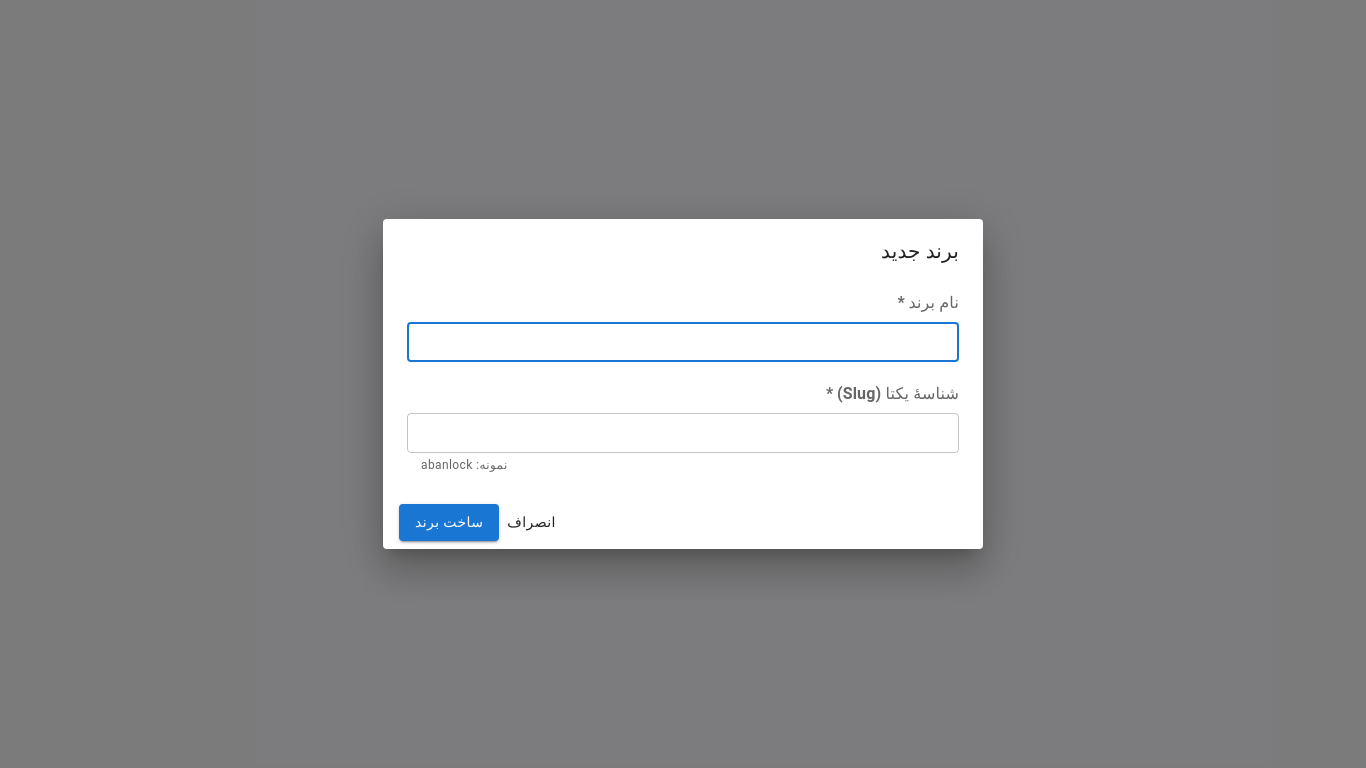
Test: BrandDialog › rejects an invalid slug and shows the API error
Type "x" into the field labelled "نام برند *". click: (683, 342)
box: [407,322,959,362]
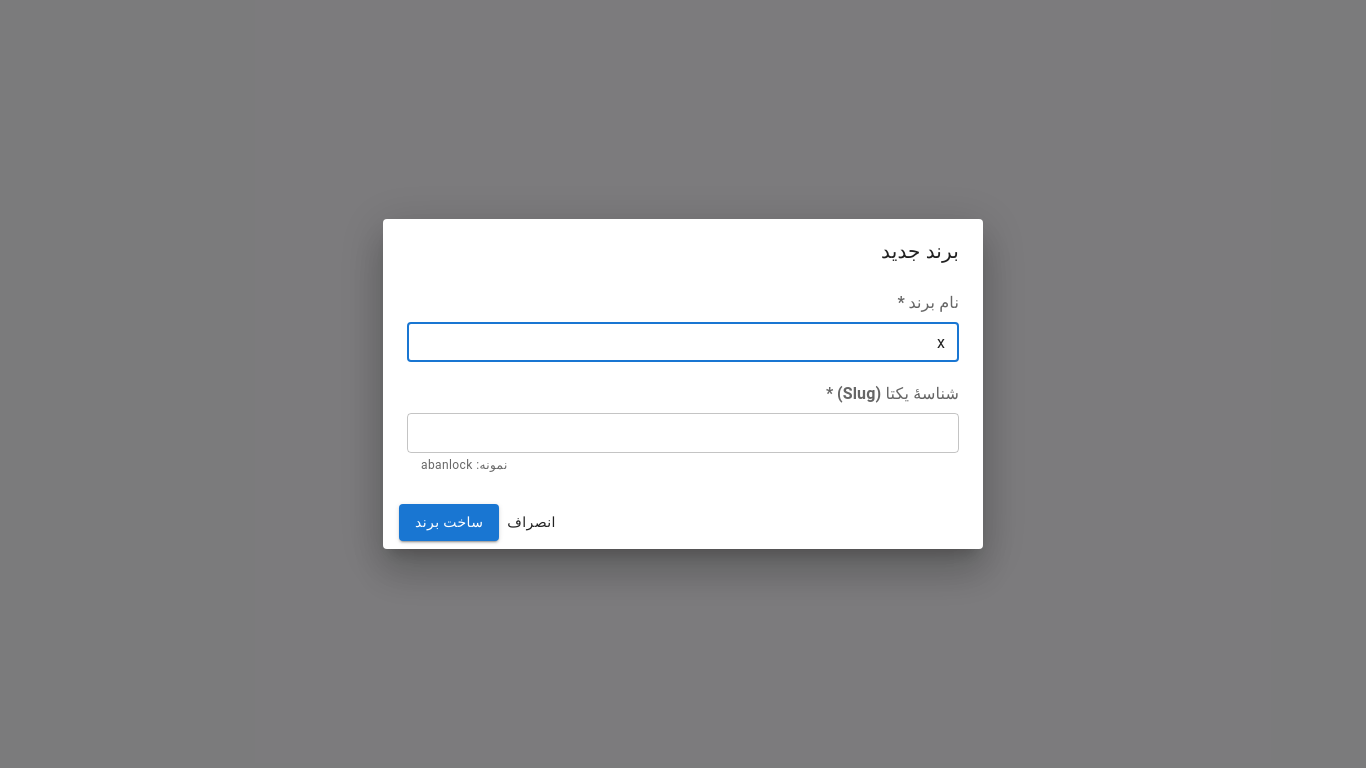
Type "Bad Slug?" into the field labelled "شناسهٔ یکتا (Slug) *". click: (683, 433)
box: [407,413,959,453]
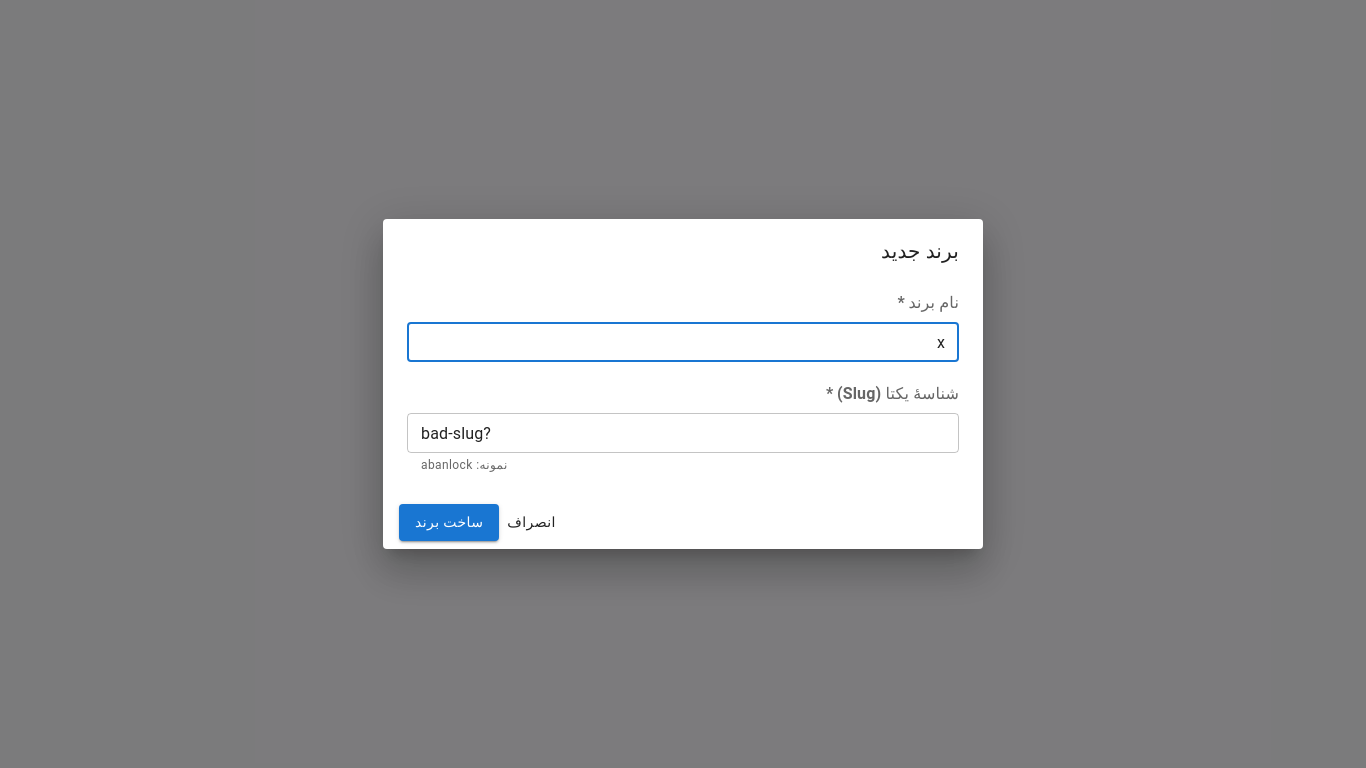
Click the button "ساخت برند". click: (449, 522)
box: [399,504,499,541]
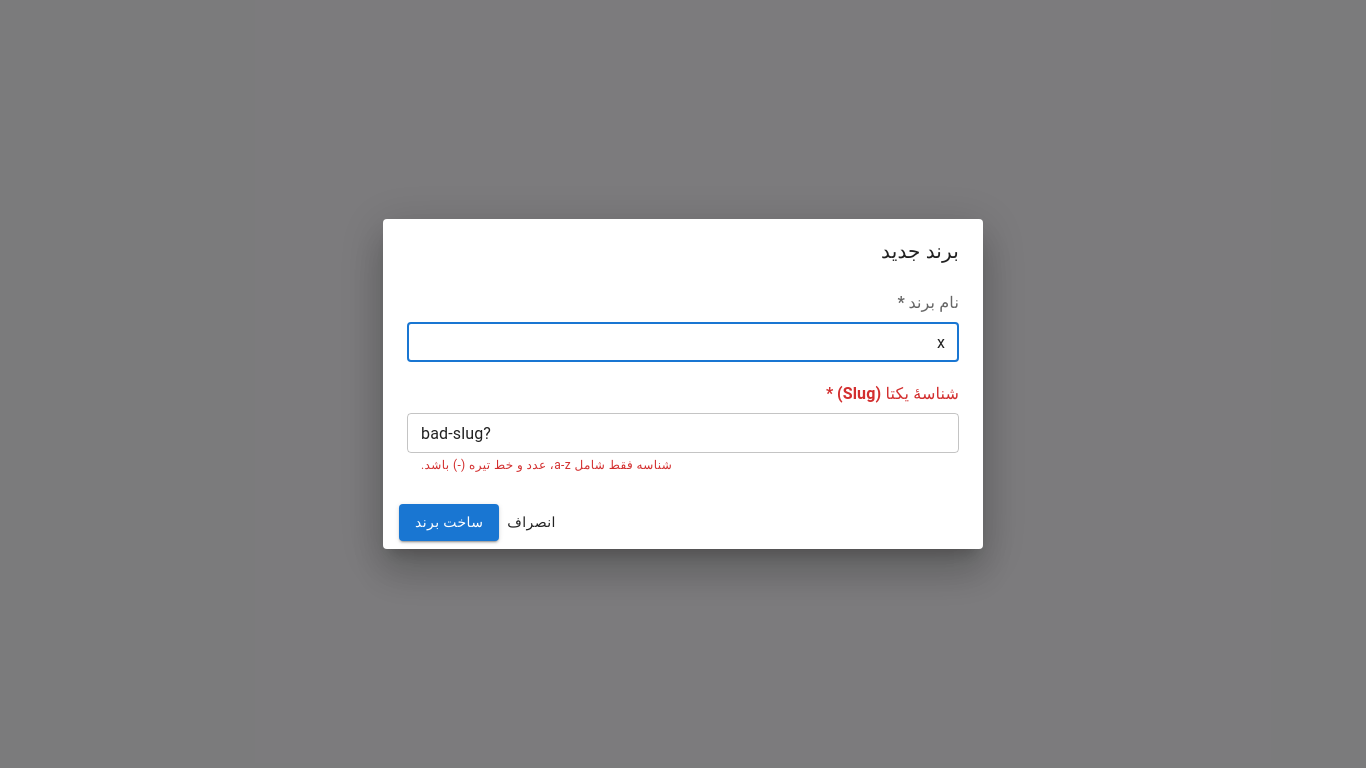
Expected: the text "شناسه فقط شامل a-z، عدد و خط تیره (-) باشد." is shown, [421,458,672,472]
Replace the text in the field labelled "شناسهٔ یکتا (Slug) *" with "good-slug". click: (683, 433)
box: [407,413,959,453]
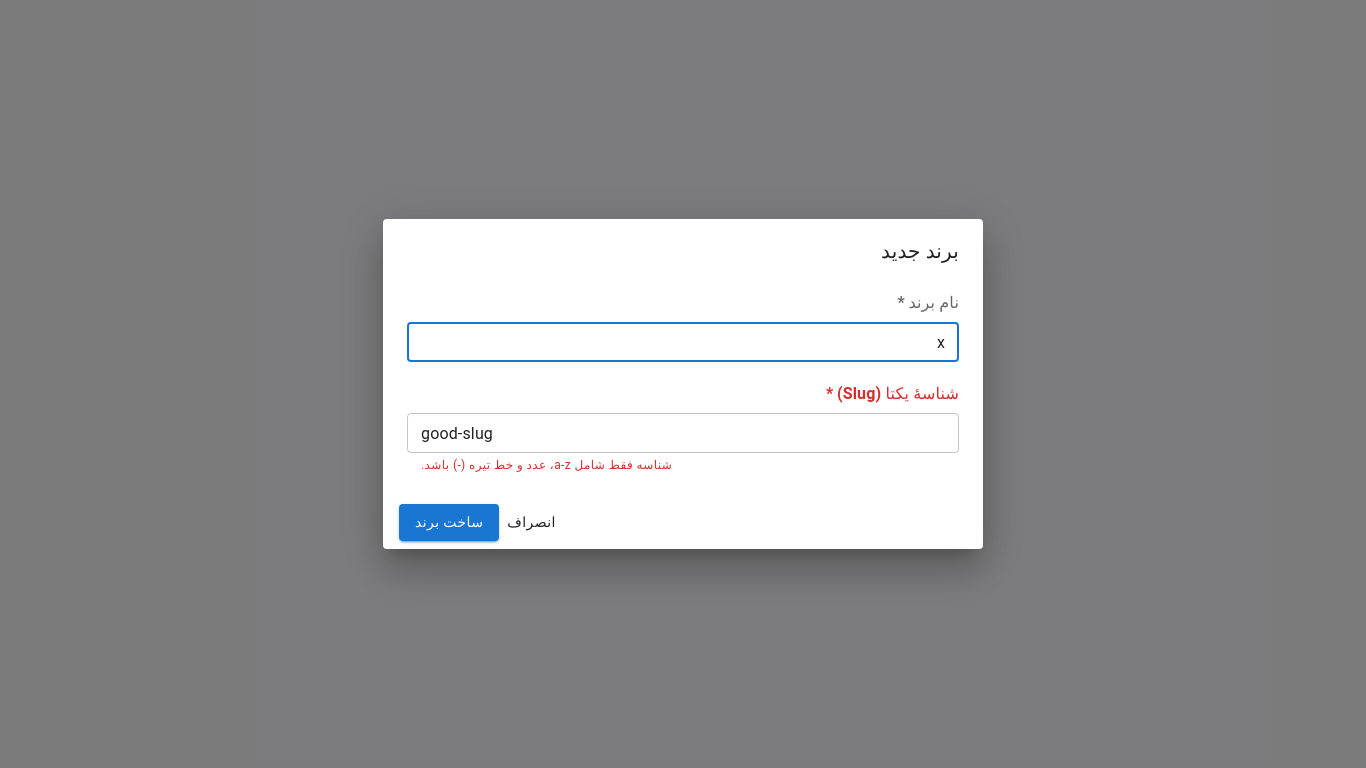
Click the button "ساخت برند". click: (449, 522)
box: [399,504,499,541]
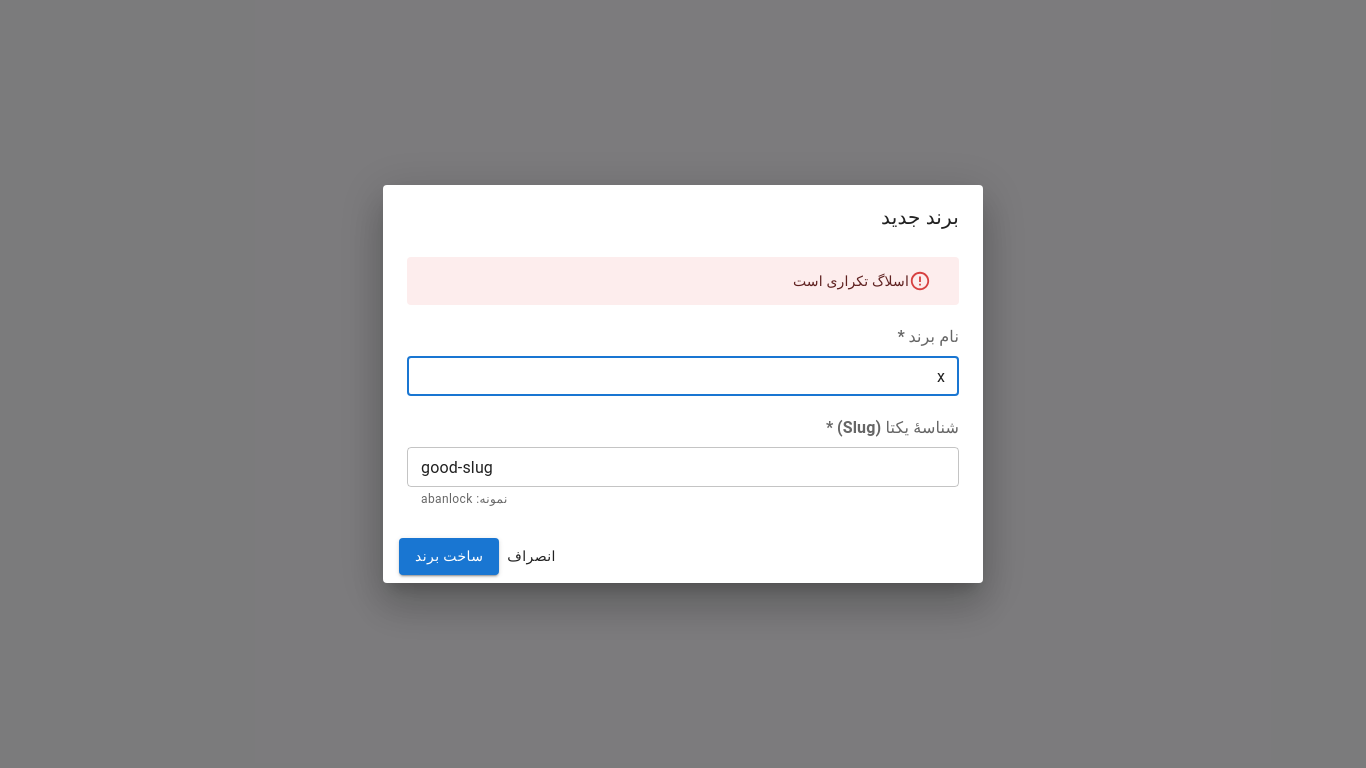
Expected: the text "اسلاگ تکراری است" is shown, [793,273,909,289]
